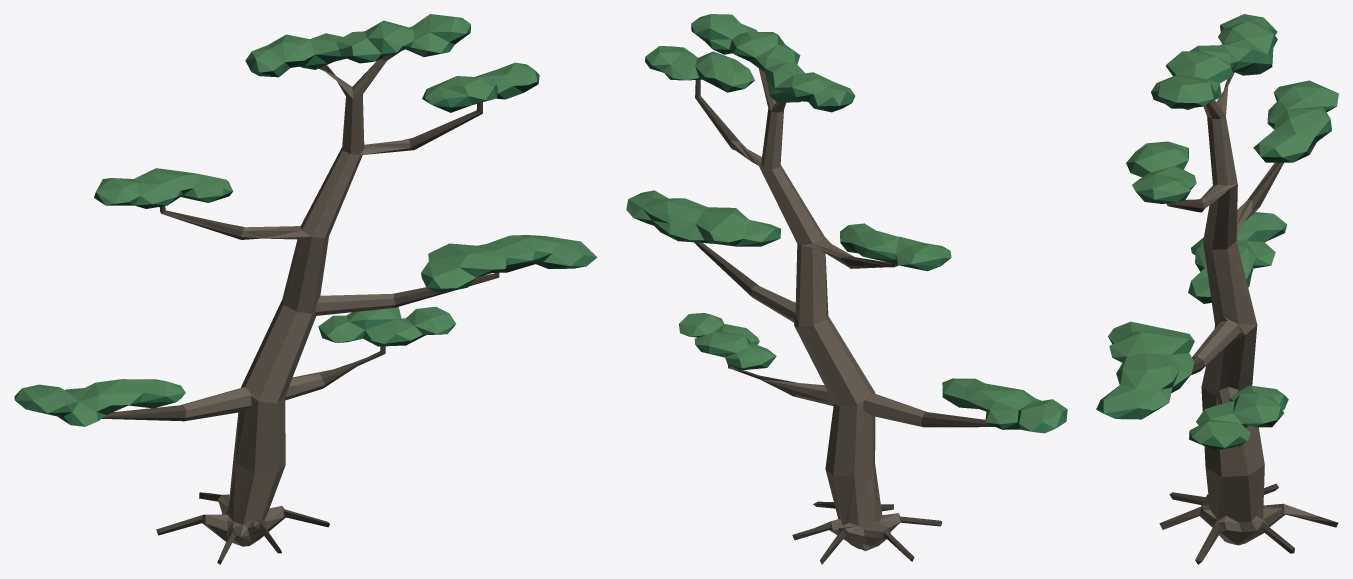
Rendered from ancient-pine-811-lod2.glb.
The picture shows the model from 3 angles, left to right: view 1: azimuth 30°, elevation 25°; view 2: azimuth 150°, elevation 25°; view 3: azimuth 270°, elevation 25°; orthographic projection. The views are drawn at different scales.
Visible parts, largest first — view 1: n8.006, n12.006, n9.006, n11.006, n10.006; view 2: n8.006, n12.006, n9.006, n11.006, n10.006; view 3: n12.006, n8.006, n11.006, n9.006, n10.006.
Part boxes in pixels (x1,y1,x2,y2): n8.006: [180, 59, 413, 546]; n12.006: [15, 14, 596, 426]; n9.006: [102, 51, 499, 564]; n11.006: [14, 25, 596, 426]; n10.006: [29, 33, 585, 416]; n8.006: [730, 68, 926, 551]; n12.006: [626, 14, 1067, 431]; n9.006: [694, 79, 994, 564]; n11.006: [645, 24, 1067, 433]; n10.006: [634, 32, 1020, 429]; n12.006: [1101, 14, 1338, 447]; n8.006: [1192, 72, 1318, 545]; n11.006: [1096, 25, 1336, 447]; n9.006: [1159, 72, 1338, 564]; n10.006: [1108, 33, 1336, 450].
Size of the model in its own units: 5.83 by 5.42 by 2.14.
